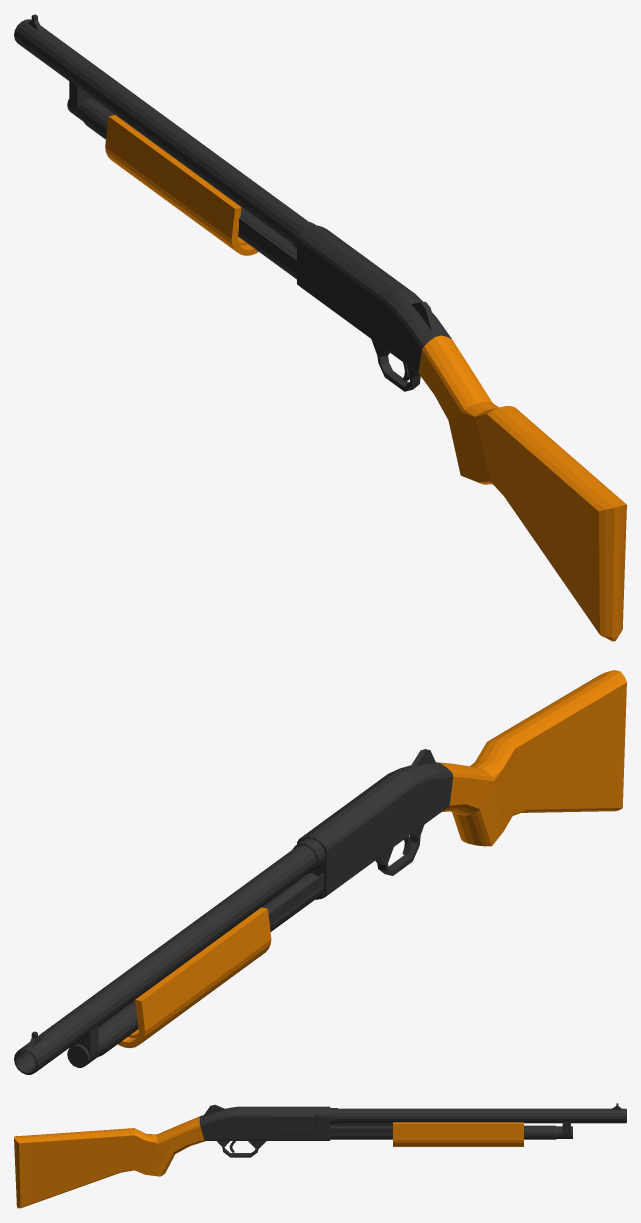
Rendered from Mossberg.glb.
The picture shows the model from 3 angles, top to bottom: view 1: azimuth 30°, elevation 25°; view 2: azimuth 150°, elevation 25°; view 3: azimuth 270°, elevation 25°; orthographic projection. The views are drawn at different scales.
Parts seen in each view (by area): view 1: Cube, Cube.001, Cube.006; view 2: Cube, Cube.001, Cube.006, Cube.003; view 3: Cube, Cube.001, Cube.006, Cube.003.
Part boxes in pixels (x1,y1,x2,y2): Cube: (14,14,451,391); Cube.001: (418,335,626,641); Cube.006: (105,115,258,255); Cube: (14,749,452,1074); Cube.001: (437,670,626,846); Cube.006: (118,907,271,1048); Cube.003: (268,873,324,923); Cube: (199,1103,626,1157); Cube.001: (14,1116,205,1208); Cube.006: (393,1122,523,1146); Cube.003: (272,1114,392,1133).
Size of the model in its own units: 0.384 by 1.85 by 9.86.
